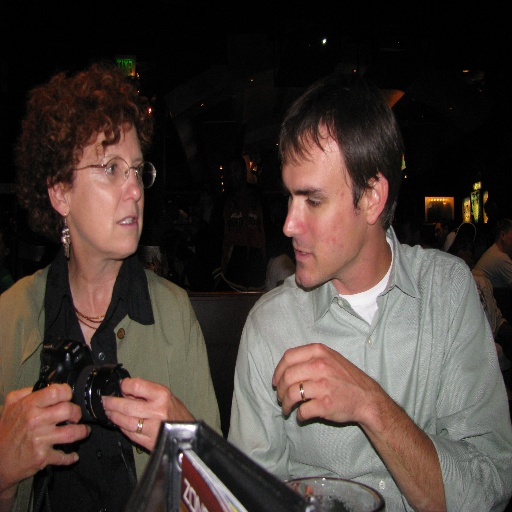hand: (273, 340, 446, 482), (0, 381, 92, 493), (100, 374, 197, 454), (146, 254, 164, 278), (161, 254, 172, 282)
